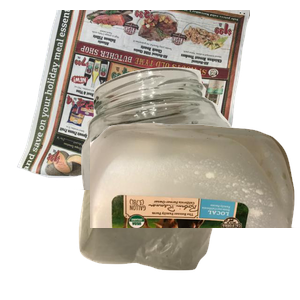glass: (74, 65, 300, 245)
paper: (14, 10, 254, 190)
plastic: (90, 120, 300, 300)
trash: (76, 124, 287, 300)
